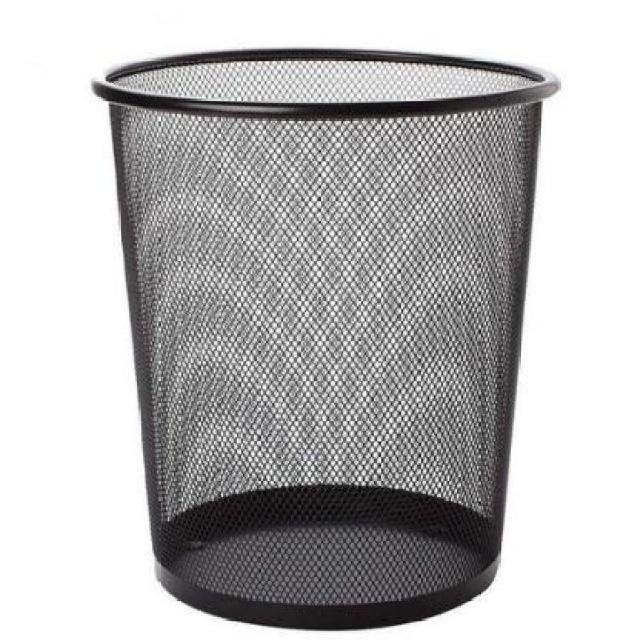dustbin: (86, 41, 568, 634)
